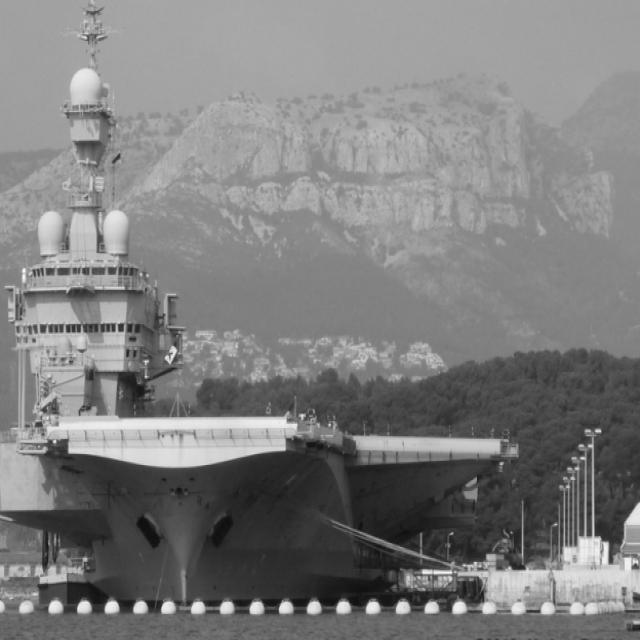Portanaves: (1, 1, 524, 610)
